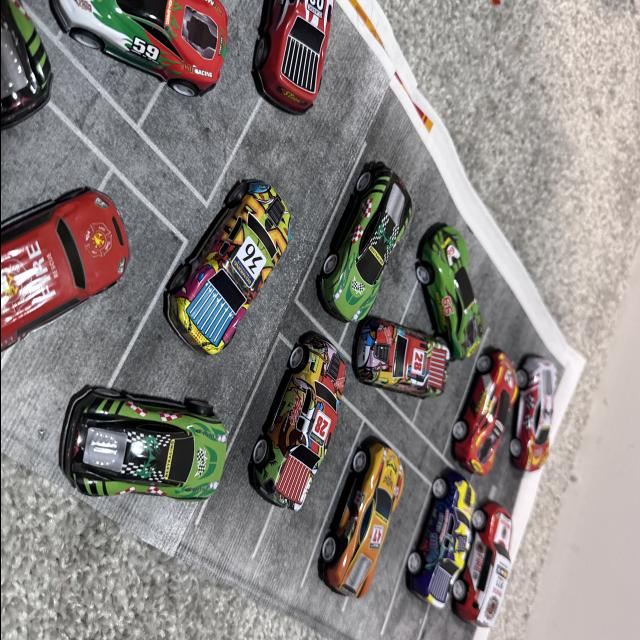Car: (0, 174, 131, 372), (403, 467, 518, 632), (412, 167, 512, 355), (310, 158, 412, 338), (162, 183, 276, 344), (54, 0, 228, 100), (61, 406, 224, 505), (321, 444, 403, 602), (266, 332, 344, 482), (444, 347, 520, 485), (260, 0, 338, 119), (0, 0, 55, 126), (367, 322, 453, 398), (508, 358, 558, 463)
